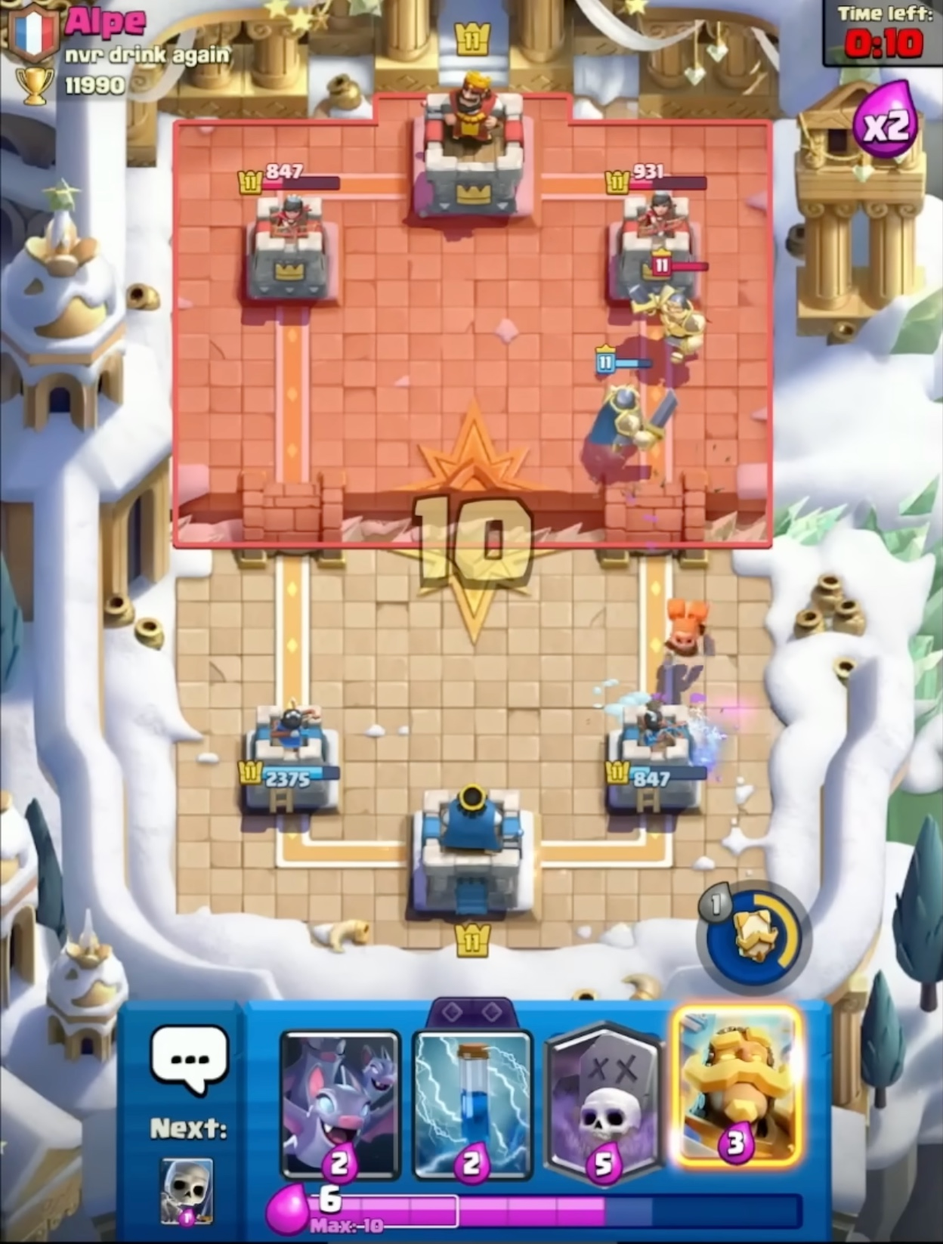hero-knight: (628, 248, 716, 373)
